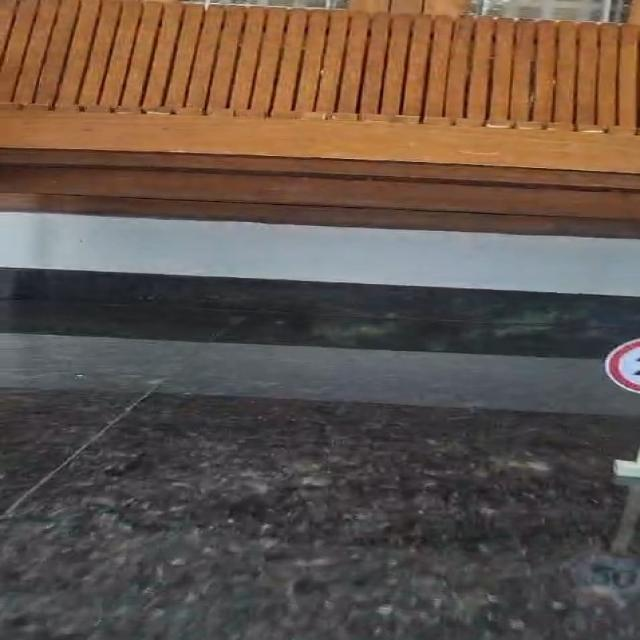Speed20: (595, 330, 640, 402)
